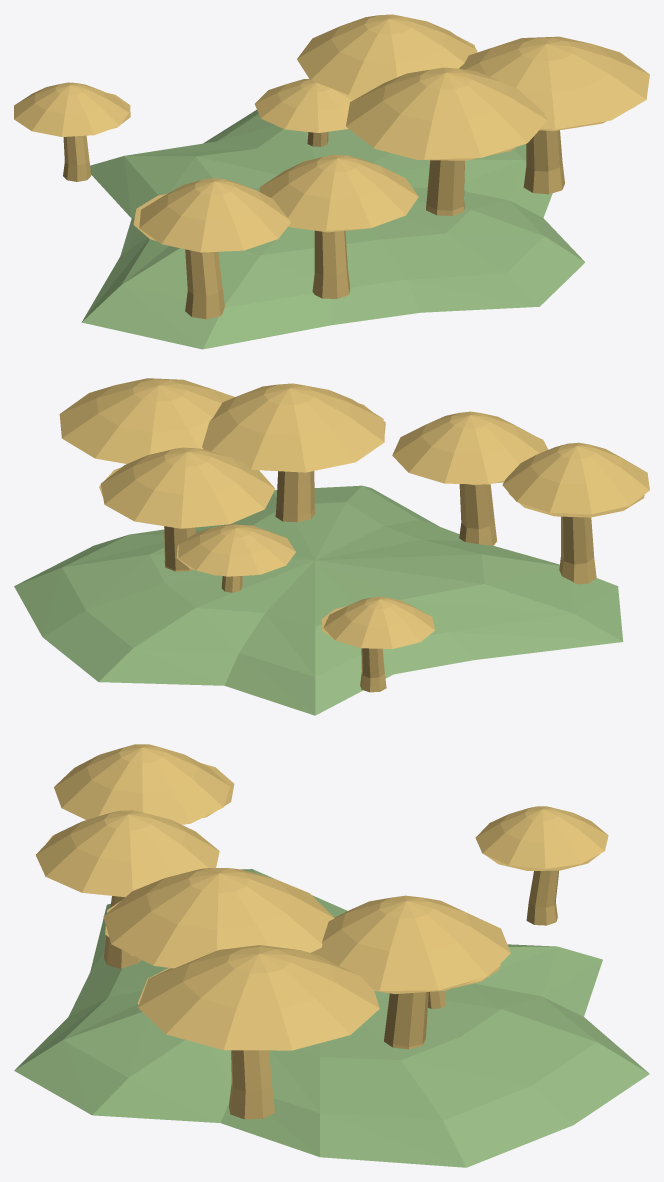
The model's file is dense-temperate-forest-flora-chanterelle-cluster-43e9b1fa__28407.glb.
3 views of the same model, one above another, from view 1: azimuth 30°, elevation 25°; view 2: azimuth 150°, elevation 25°; view 3: azimuth 270°, elevation 25° (orthographic). The views are drawn at different scales.
Visible parts, largest first — view 1: chanterelle-cluster; view 2: chanterelle-cluster; view 3: chanterelle-cluster.
Part boxes in pixels (left/top/right/bottom): chanterelle-cluster: left=14, top=14, right=649, bottom=349; chanterelle-cluster: left=14, top=378, right=649, bottom=715; chanterelle-cluster: left=14, top=744, right=649, bottom=1167.
Size of the model in its own units: 0.3731 by 0.1077 by 0.3189.
